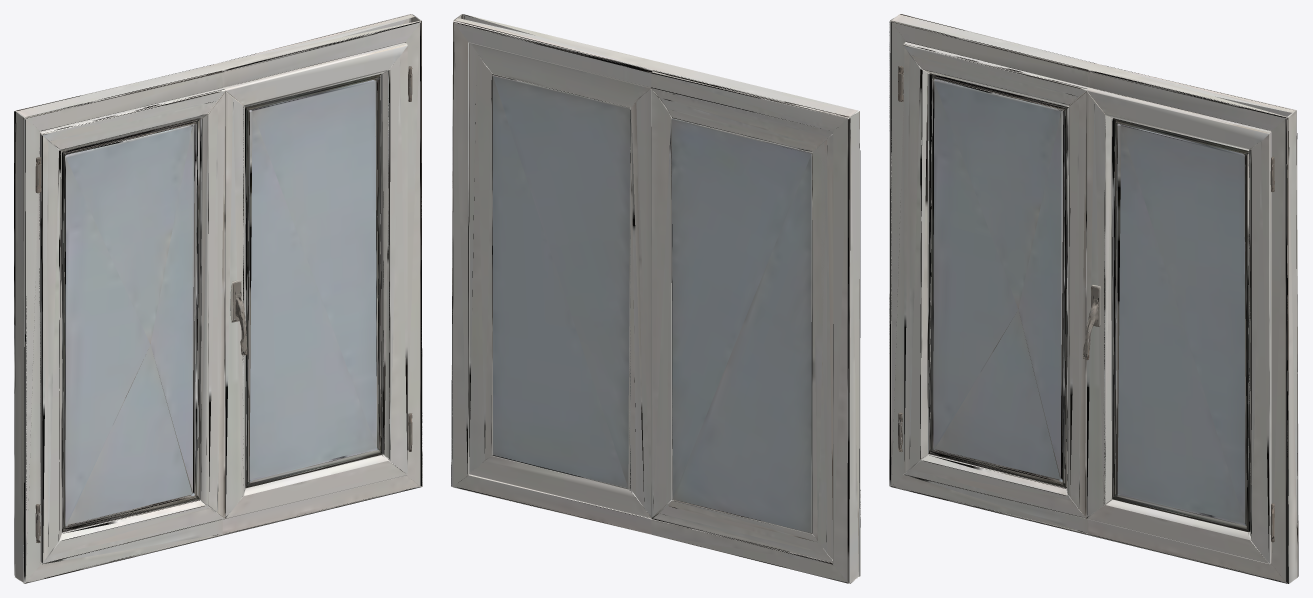
File: mobile.glb
3 renders of one model, left to right at view 1: azimuth 30°, elevation 25°; view 2: azimuth 150°, elevation 25°; view 3: azimuth 330°, elevation 25°, orthographic.
Visible parts, largest first — view 1: window; view 2: window; view 3: window.
Part boxes in pixels (x1,y1,x2,y2): window: [14, 14, 422, 583]; window: [451, 14, 860, 583]; window: [889, 14, 1298, 583].
Bounding box in the file's own units: 1.34 × 1.5 × 0.136.
1 material, 1 textured.
